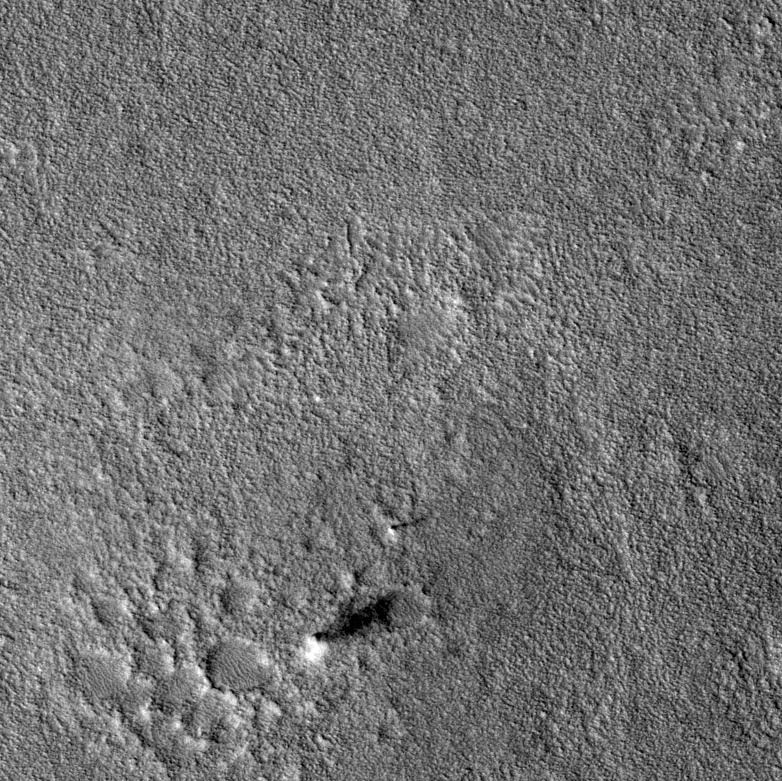dust_devil: (301, 588, 402, 668), (387, 516, 428, 544)
